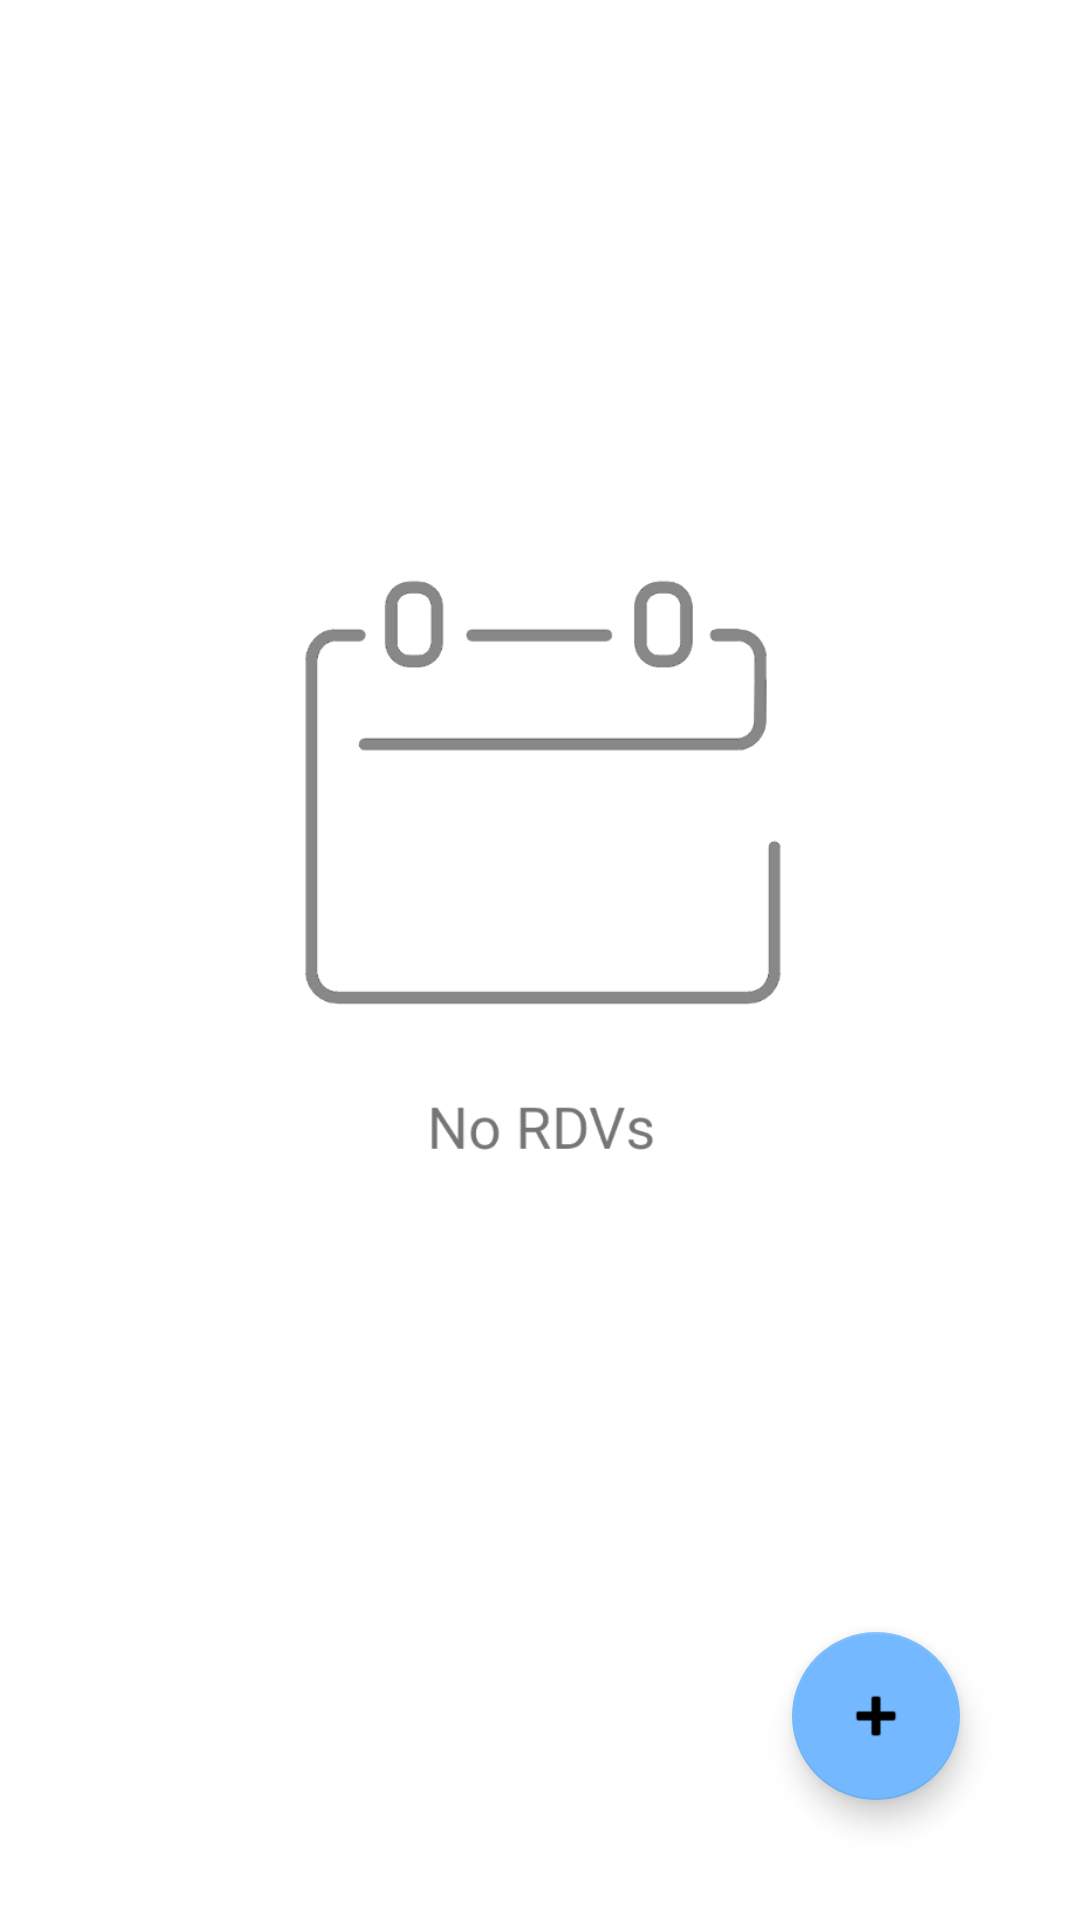

Screen size 1080 x 1920. Icon name, then its box in pixels as (left=x1, top=y1, right=x2, bottom=y2):
add: (left=792, top=1632, right=960, bottom=1800)
